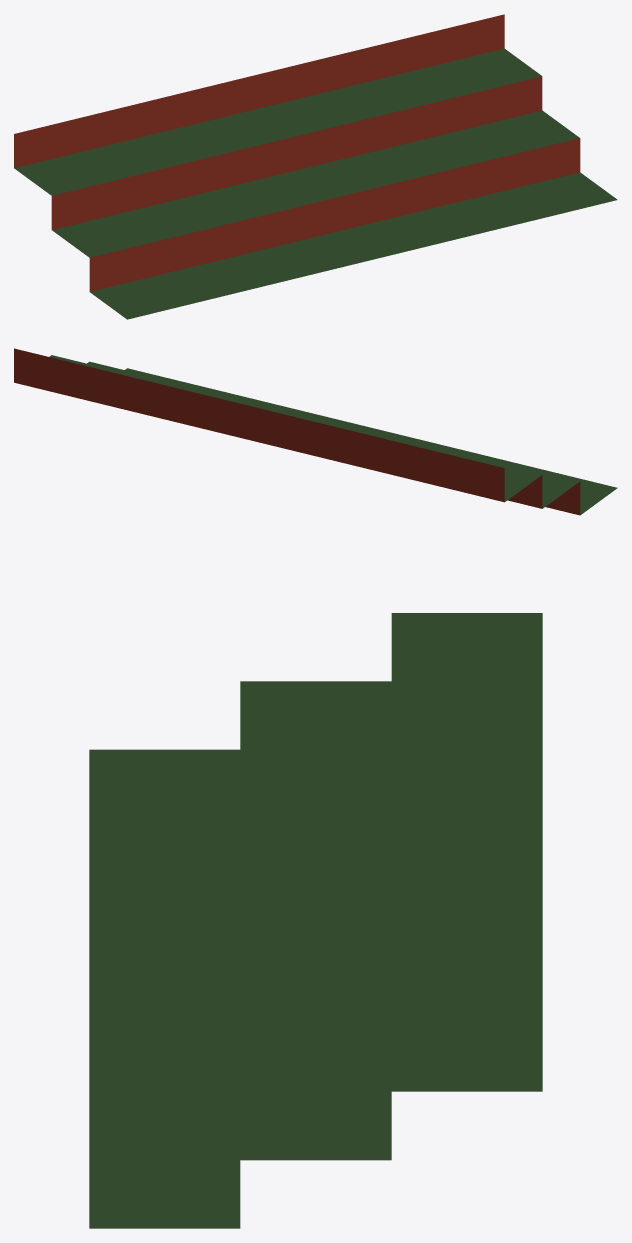
Rendered from city.glb.
The picture shows the model from 3 angles, top to bottom: view 1: azimuth 30°, elevation 25°; view 2: azimuth 150°, elevation 25°; view 3: azimuth 270°, elevation 25°; orthographic projection. The views are drawn at different scales.
Parts seen in each view (by area): view 1: Plane; view 2: Plane; view 3: Plane.
Boxes of the visible parts, x1,y1,x2,y2 form: Plane: [14, 14, 617, 319]; Plane: [14, 348, 617, 515]; Plane: [89, 613, 542, 1228].
Bounding box in the file's own units: 30 × 6 × 12.
